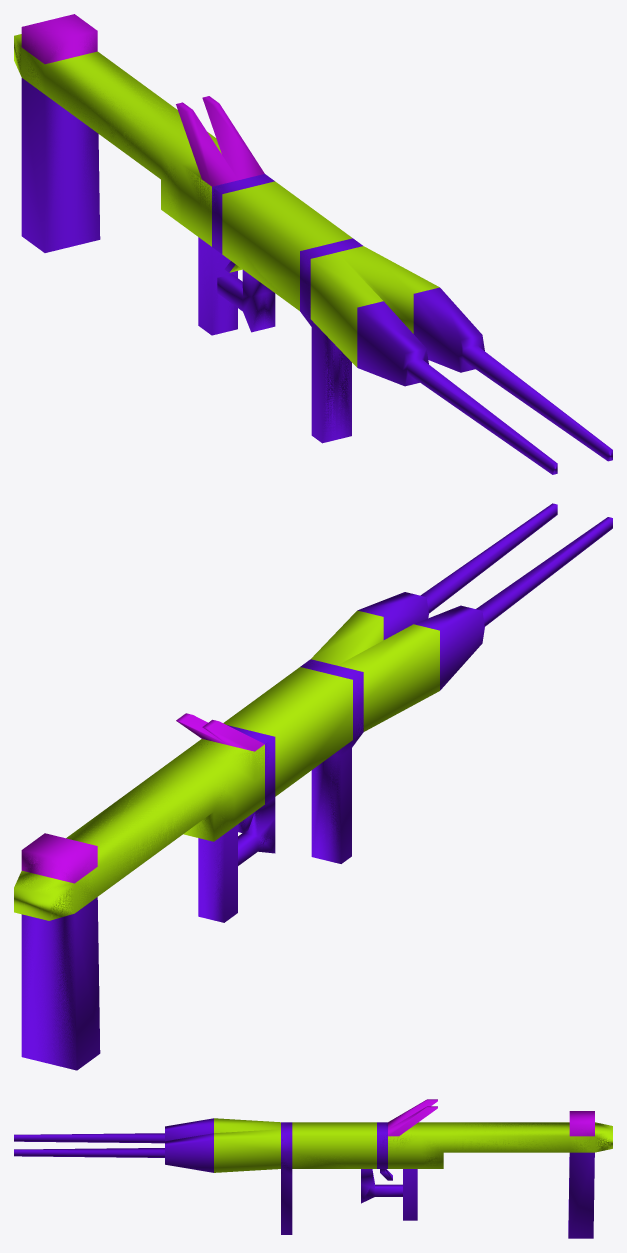
The model's file is DuoAutoBlaster.fbx.
The picture shows the model from 3 angles, top to bottom: view 1: azimuth 30°, elevation 25°; view 2: azimuth 150°, elevation 25°; view 3: azimuth 270°, elevation 25°; orthographic projection. The views are drawn at different scales.
Visible parts, largest first — view 1: Cube; view 2: Cube; view 3: Cube.
Boxes of the visible parts, left/top/right/bottom form: Cube: left=14, top=14, right=612, bottom=474; Cube: left=14, top=503, right=612, bottom=1070; Cube: left=14, top=1099, right=612, bottom=1238.
Bounding box in the file's own units: 69.72 × 188 × 803.
